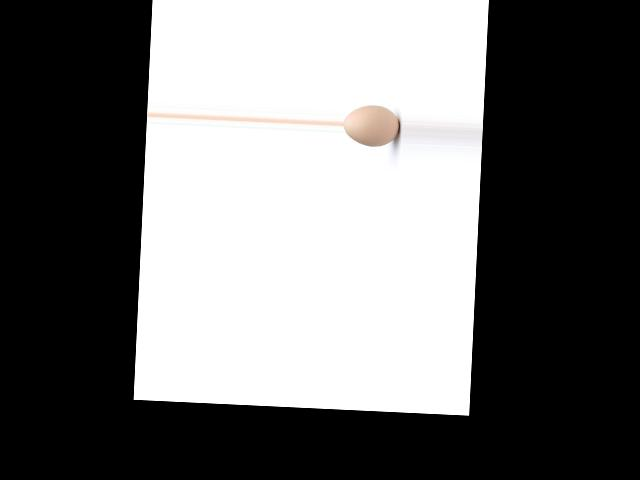egg: (343, 103, 400, 147)
